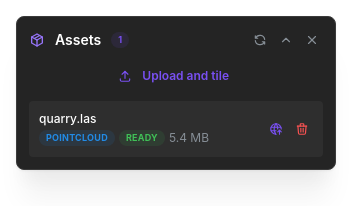
Test: AssetsPanel › adds a tiled asset as a layer, and flies to it once it is drawn
What coordinates should you click on to do the following:
click the button named "Add quarry.las to globe"
I would click on:
 (276, 129)
Its box is [265,118,287,140].
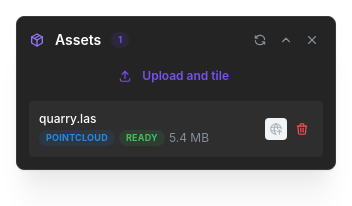
Now the button named "Add quarry.las to globe" is disabled, box [265,118,287,140]
